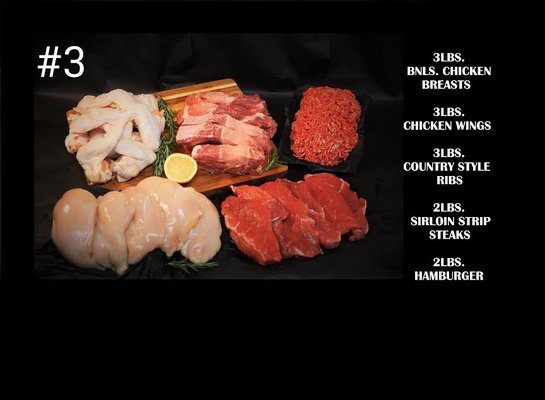sushi: (288, 86, 366, 174)
